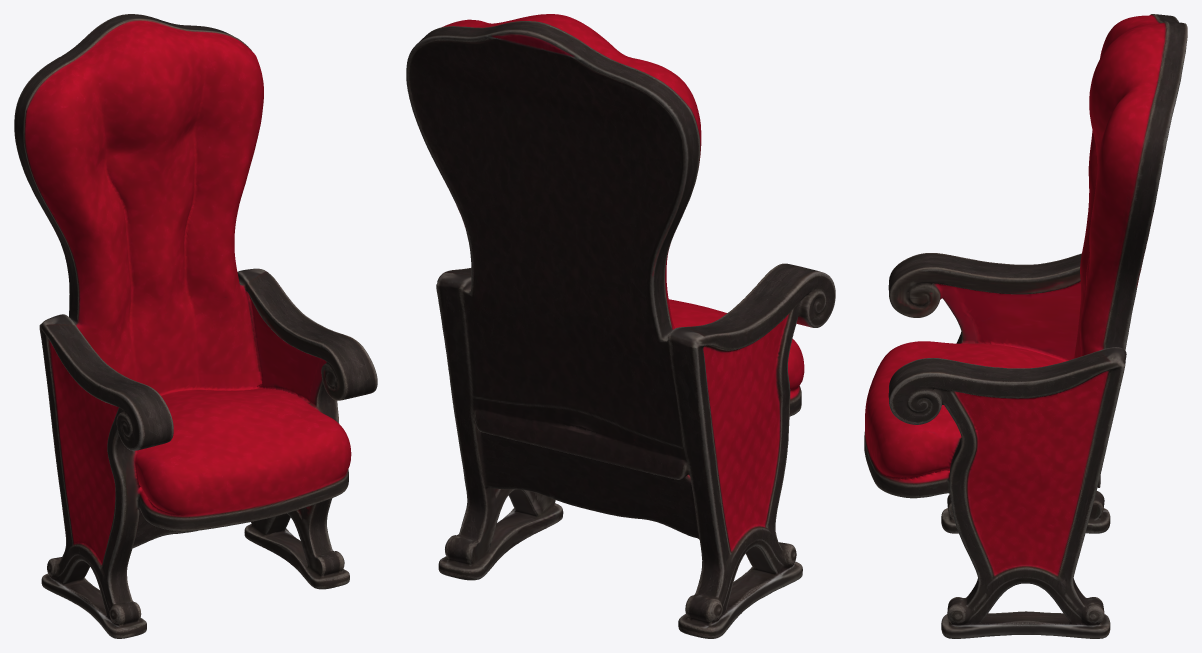
Rendered from Meshy_AI_model_20261017_texture.obj.
The picture shows the model from 3 angles, left to right: view 1: azimuth 30°, elevation 25°; view 2: azimuth 150°, elevation 25°; view 3: azimuth 270°, elevation 25°; orthographic projection. The views are drawn at different scales.
Parts seen in each view (by area): view 1: Meshy_AI_model_20261017_texture; view 2: Meshy_AI_model_20261017_texture; view 3: Meshy_AI_model_20261017_texture.
Part boxes in pixels (box(x1,y1,x2,y2)): Meshy_AI_model_20261017_texture: box(14, 14, 377, 638); Meshy_AI_model_20261017_texture: box(406, 14, 835, 638); Meshy_AI_model_20261017_texture: box(864, 14, 1187, 638).
Bounding box in the file's own units: 0.9249 × 1.9 × 1.01.
1 material, 1 textured.
